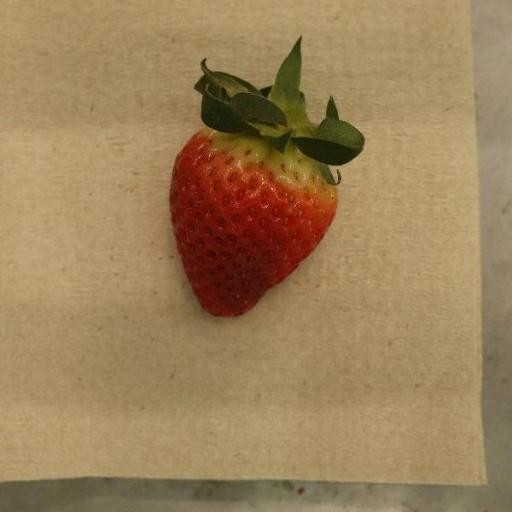Strawberry: (169, 37, 366, 318)
